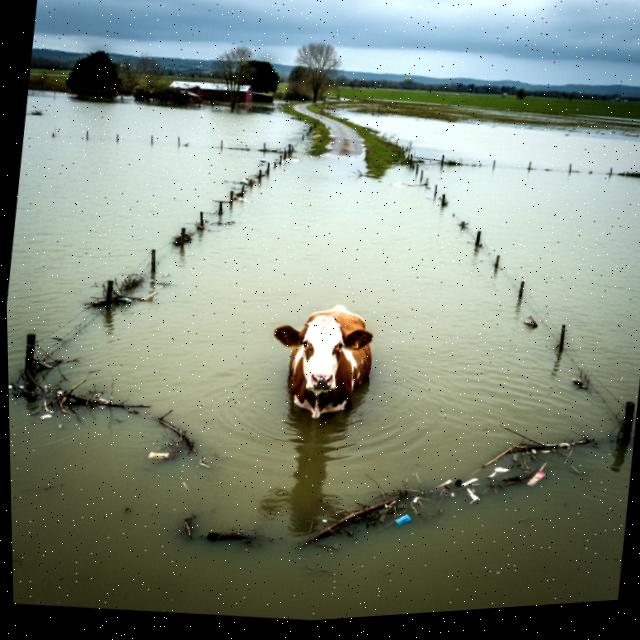cow: (249, 283, 406, 447)
